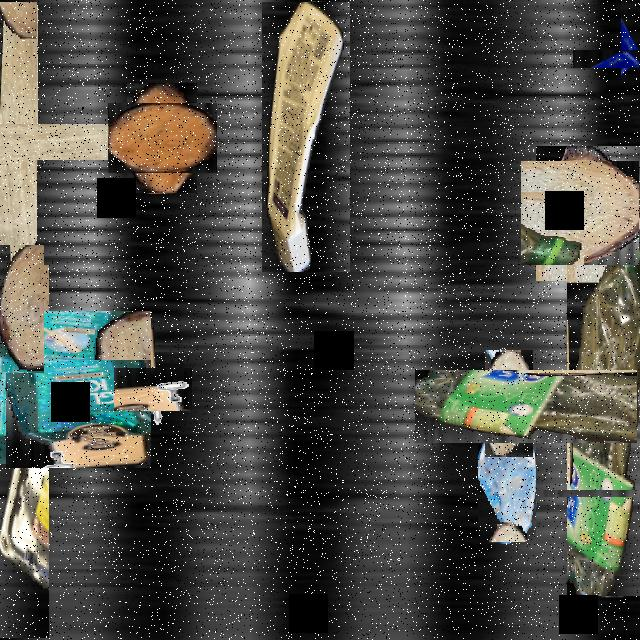glass: (478, 439, 536, 542), (597, 25, 640, 91)
metal: (122, 359, 184, 420)
plastic: (490, 294, 640, 519), (262, 2, 350, 272), (3, 314, 154, 465), (0, 265, 49, 638)
wood: (0, 62, 97, 221), (528, 153, 640, 273), (117, 94, 207, 184), (0, 245, 44, 374), (587, 445, 640, 542), (485, 350, 533, 457), (637, 320, 640, 494)
